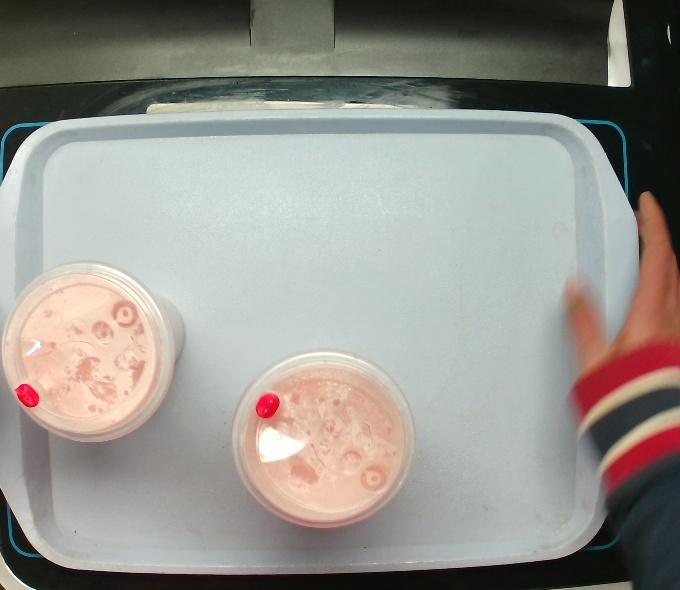wcq-XiGuaZhi: (229, 346, 418, 532), (1, 260, 187, 445)
